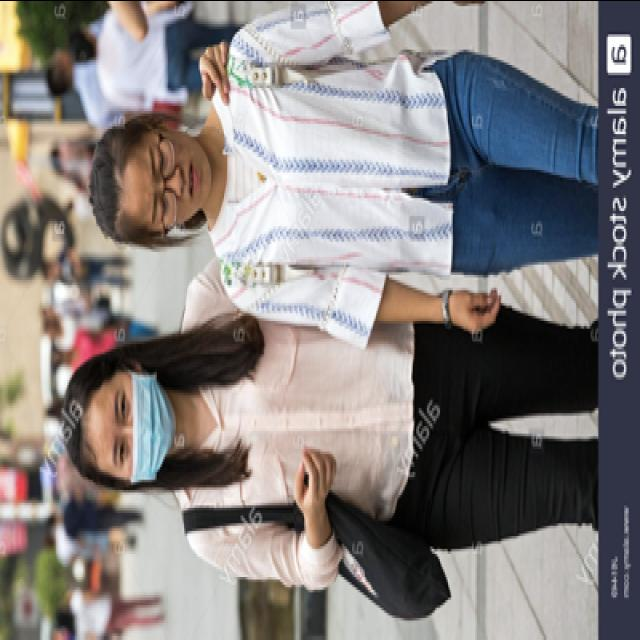mask: (108, 366, 174, 484)
no_mask: (142, 120, 212, 230)
